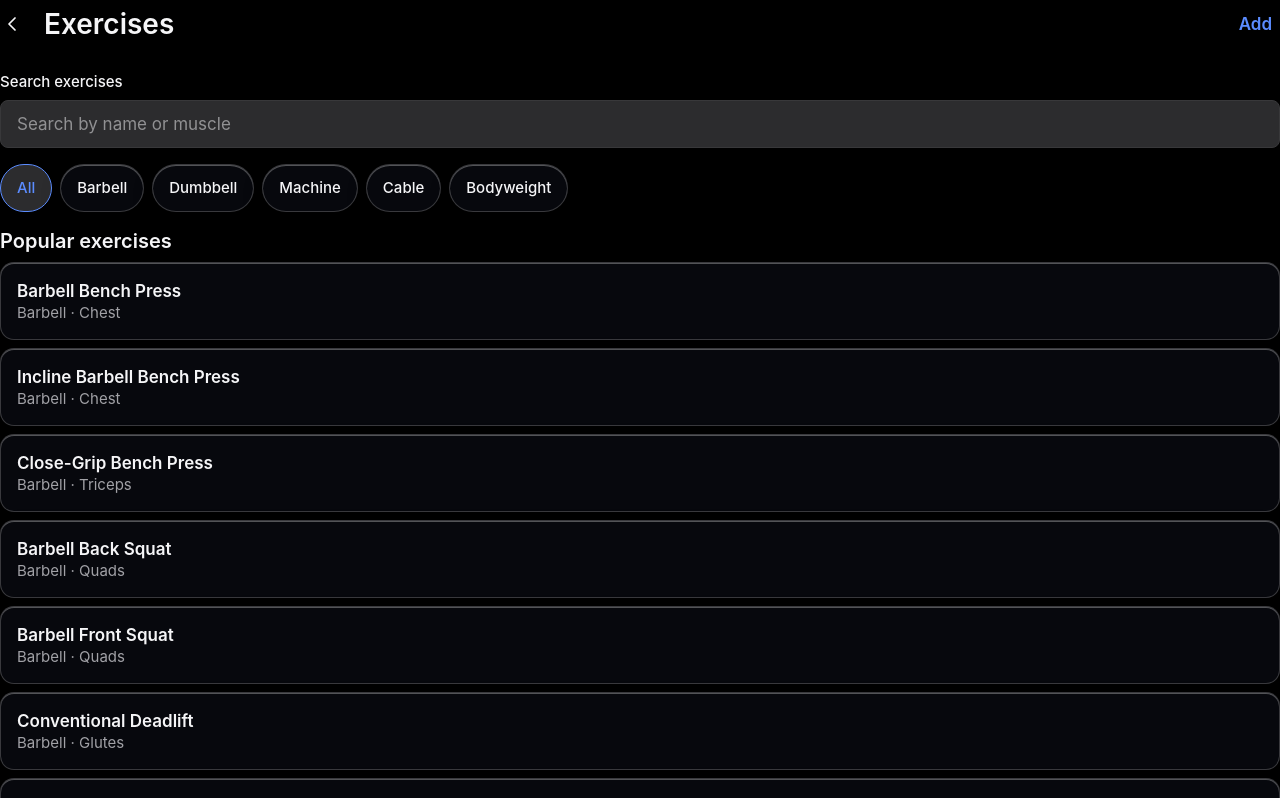
Test case: ExercisesPage: searching › finds an exercise from the imported library, not just the popular ones
The width and height of the screenshot is (1280, 798).
In the search field labelled "Search exercises": point(640, 124) [0,100,1279,148], type "landmine"
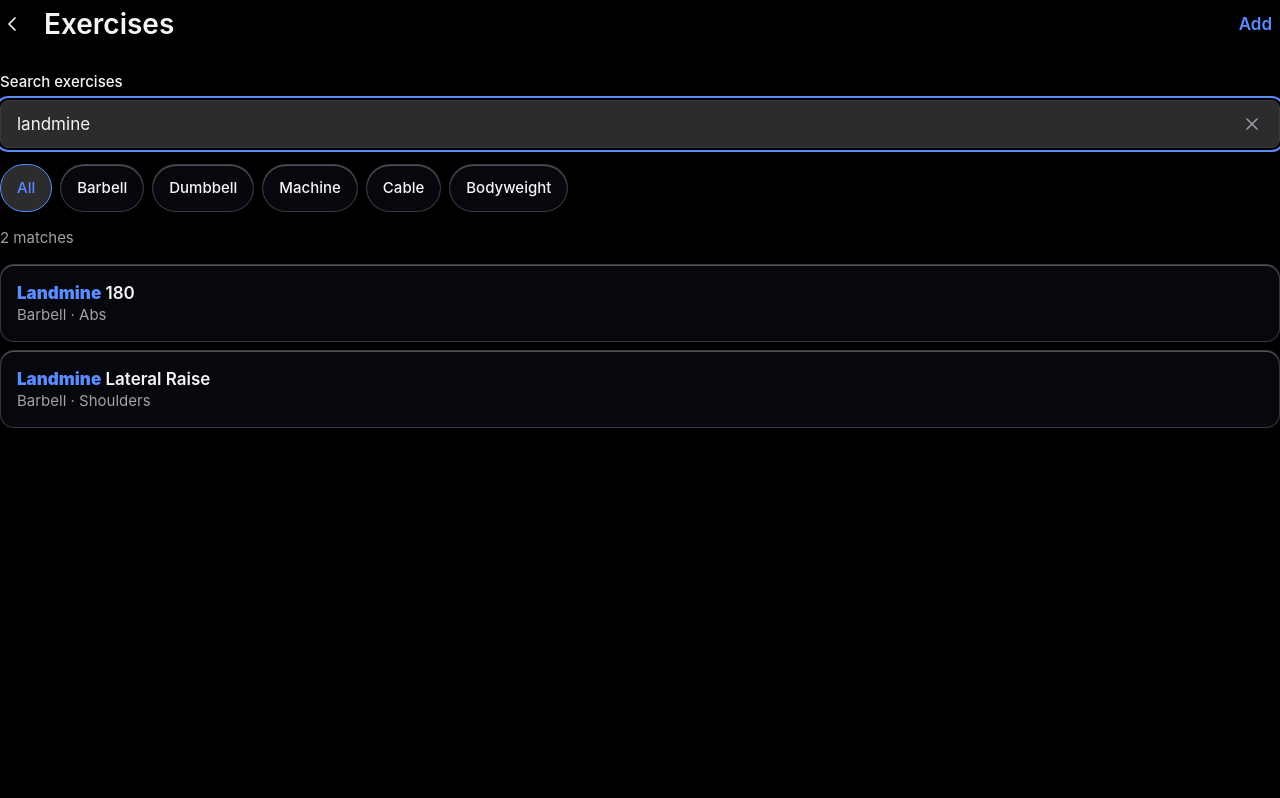
Now the text "Landmine" next to "180" is shown, box [17,283,101,303]
